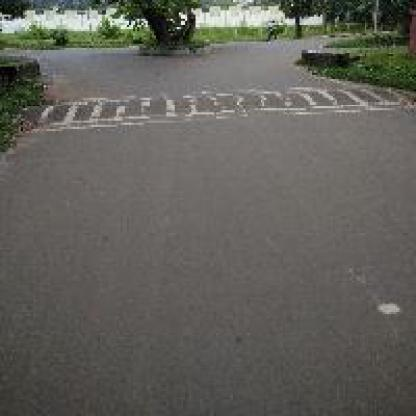Speed Bump: (25, 79, 414, 133)
